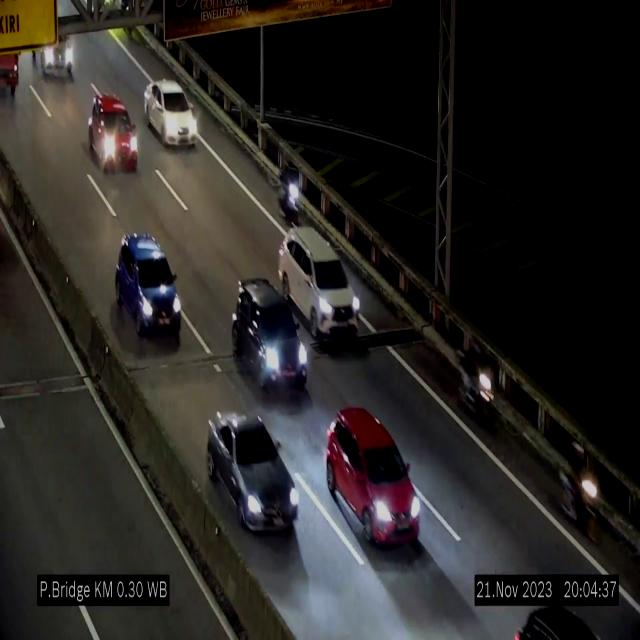Car: (326, 407, 420, 546), (208, 410, 300, 530), (279, 229, 358, 339), (232, 280, 308, 389), (115, 232, 181, 340), (90, 94, 142, 178), (144, 79, 198, 146)
Motorcycle: (560, 431, 606, 553), (462, 337, 498, 432), (280, 158, 302, 228)
